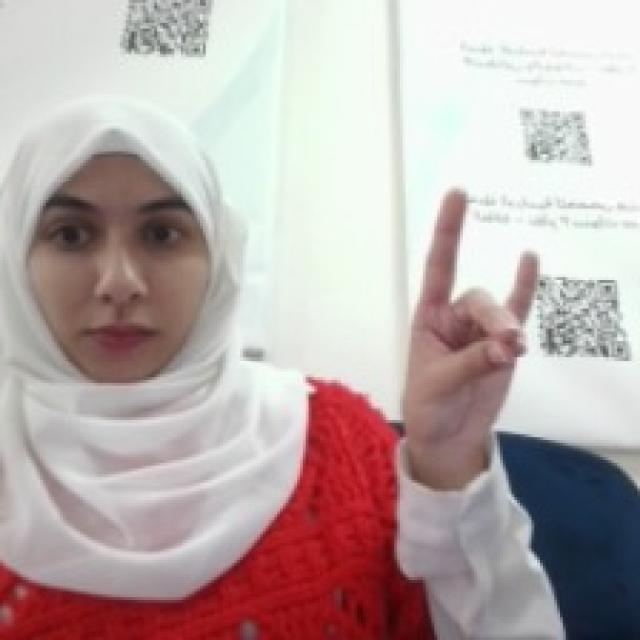Dog: (397, 180, 546, 454)
